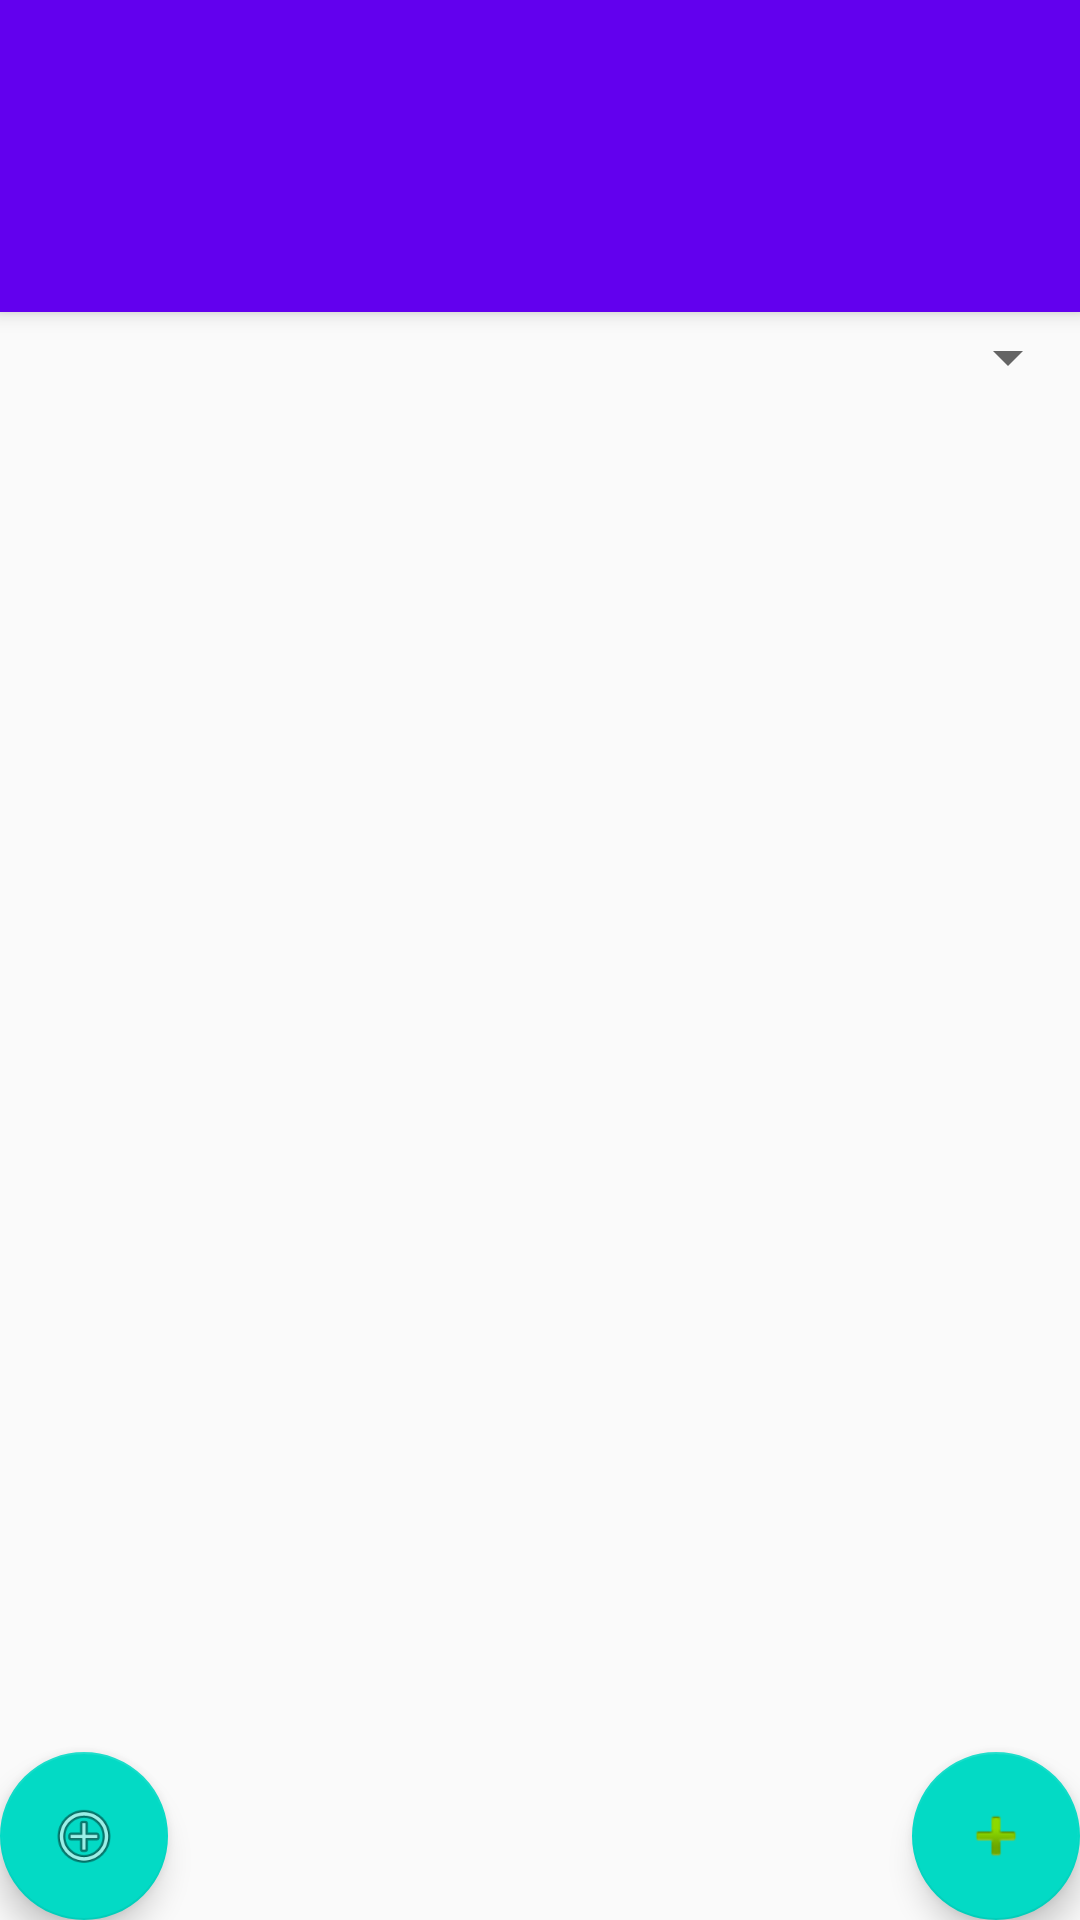

Locate icon controls on the screen. Image size 1080w x 1920h, boxes as Rect(x1, y1, x2, y2).
add: Rect(0, 1752, 168, 1920), Rect(912, 1752, 1080, 1920)
